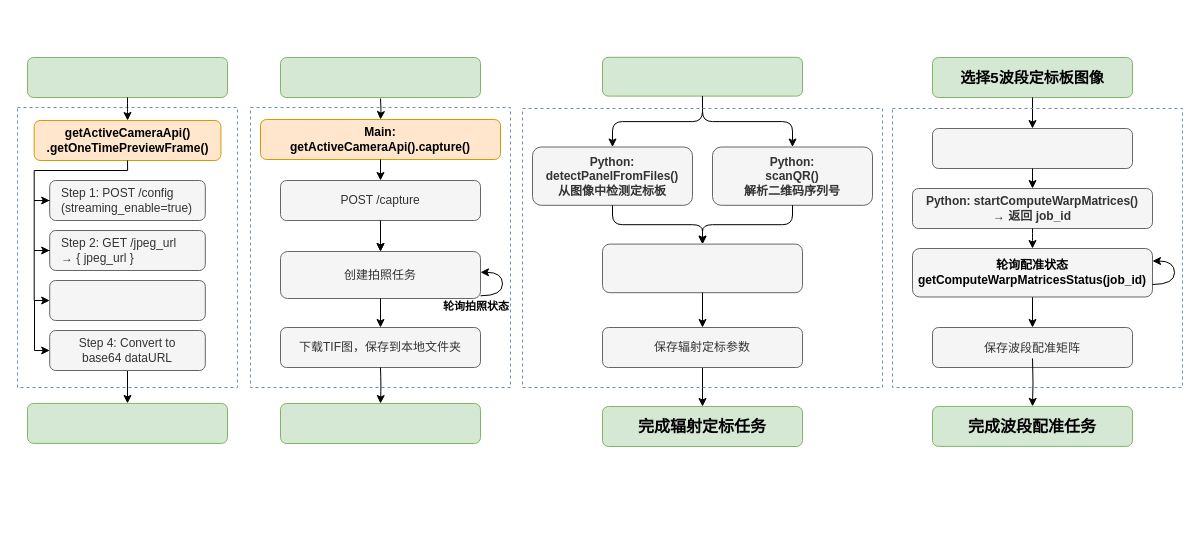
Some shapes in this 1200 by 534 pixel diagram are drawn without their labels. Here are the shapes that lost their labels. From the top down, the centre of each, then its label:
[127,77]: 用户点击"开始预览"
[380,77]: 用户点击"拍照"
[702,76]: 选择5波段定标板图像
[1032,148]: Python: getCameraInfo() 获取相机信息
[702,268]: Python: calculateIrradiance() 计算反射率、辐照度
[127,300]: Step 3: GET {jpeg_url} → binary JPEG
[127,422]: 前端更新相机预览图片
[380,423]: 完成拍照任务
